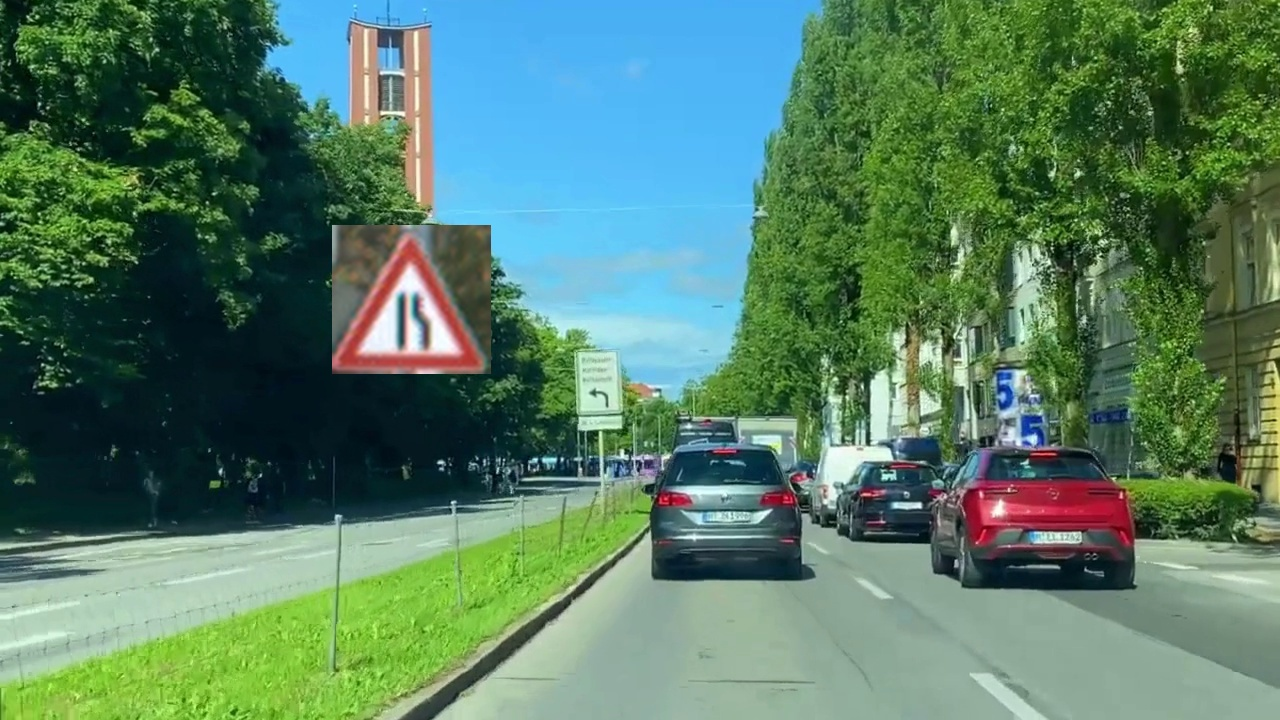Road narrows: (332, 225, 491, 374)
